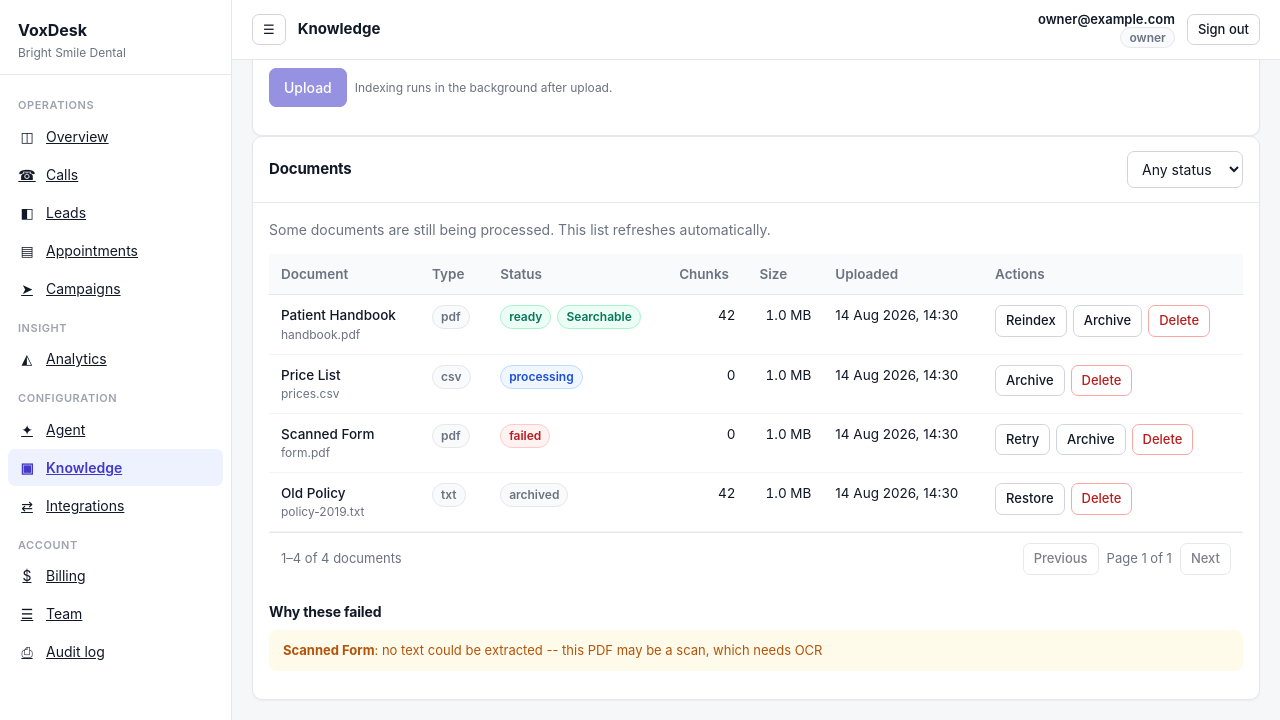
it: row actions match backend semantics › restores through the real endpoint
The width and height of the screenshot is (1280, 720).
(page scrolled)
Click the button "Restore" at (1030, 499), box x1=995 y1=483 x2=1065 y2=514
(page scrolled)
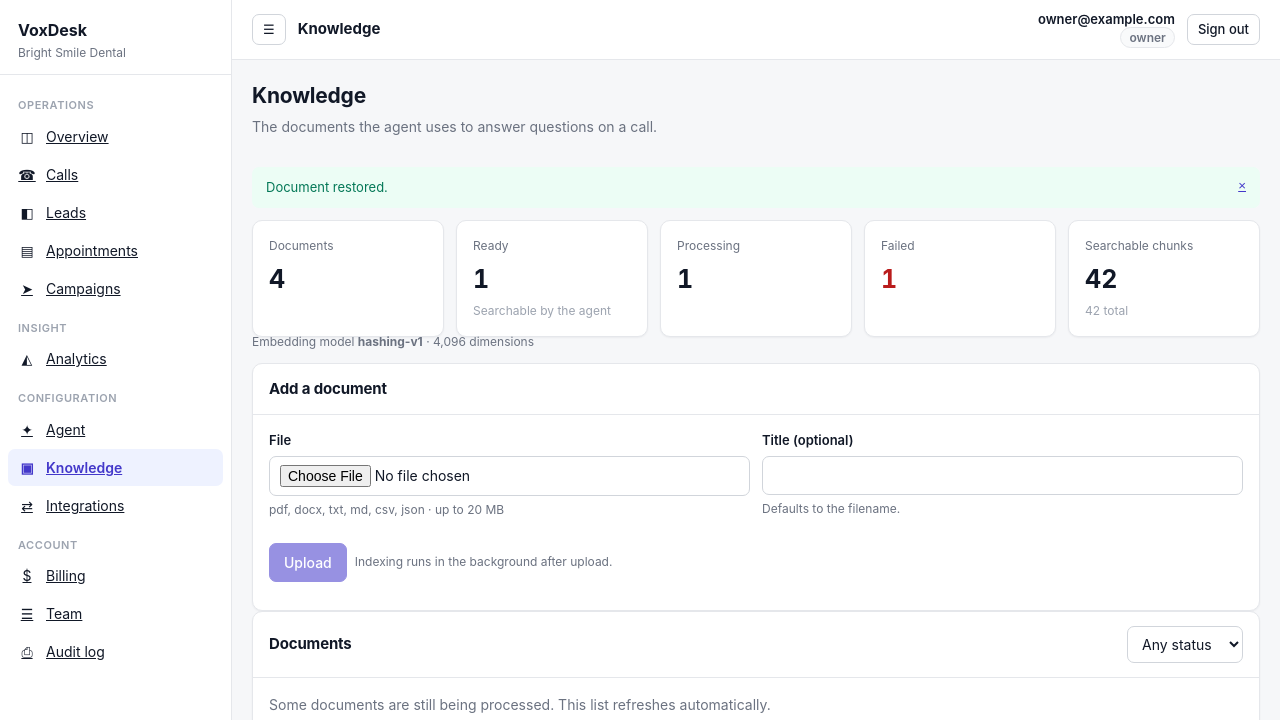
Check: the text "Document restored." is shown, box x1=266 y1=178 x2=388 y2=194
